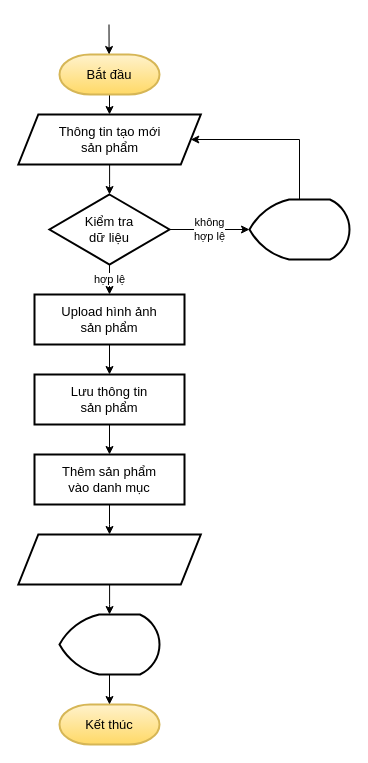
The diagram is 368 pixels wide and 763 high, and some of its shapes have lost their labels. The centre of each missing label's shape, as x and y in pixels:
"Thông báo lỗi" belongs at (x=299, y=229).
"Thông báo thành công" belongs at (x=109, y=644).
"Thông tin sản phẩm vừa tạo" belongs at (x=109, y=559).
